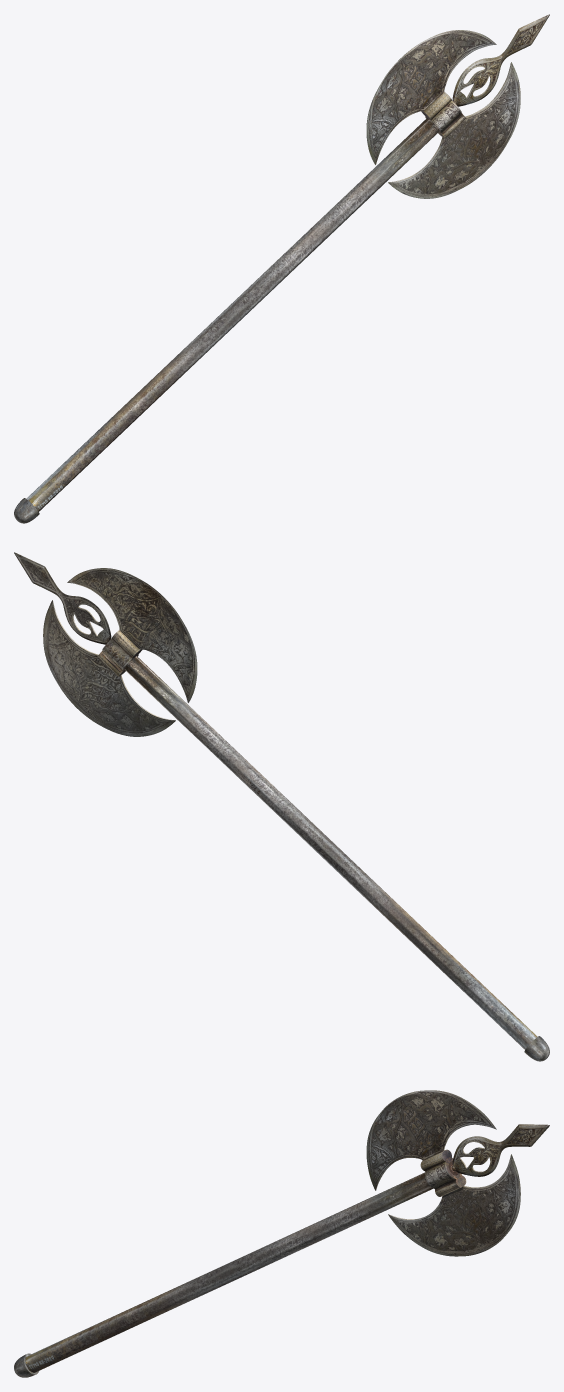
3 renders of one model, top to bottom at view 1: azimuth 30°, elevation 25°; view 2: azimuth 150°, elevation 25°; view 3: azimuth 330°, elevation 25°, orthographic.
Visible parts, largest first — view 1: Engraved_drawing_main_mesh, Engraved_drawing_second_mesh; view 2: Engraved_drawing_main_mesh, Engraved_drawing_second_mesh; view 3: Engraved_drawing_main_mesh, Engraved_drawing_second_mesh.
Boxes of the visible parts, left/top/right/bottom form: Engraved_drawing_main_mesh: left=366, top=30, right=520, bottom=198; Engraved_drawing_second_mesh: left=14, top=14, right=549, bottom=523; Engraved_drawing_main_mesh: left=43, top=568, right=197, bottom=736; Engraved_drawing_second_mesh: left=14, top=552, right=549, bottom=1061; Engraved_drawing_main_mesh: left=366, top=1090, right=520, bottom=1256; Engraved_drawing_second_mesh: left=14, top=1124, right=549, bottom=1377.
Bounding box in the file's own units: 9.34 × 6.47 × 0.3464.
2 materials, 2 textured.
